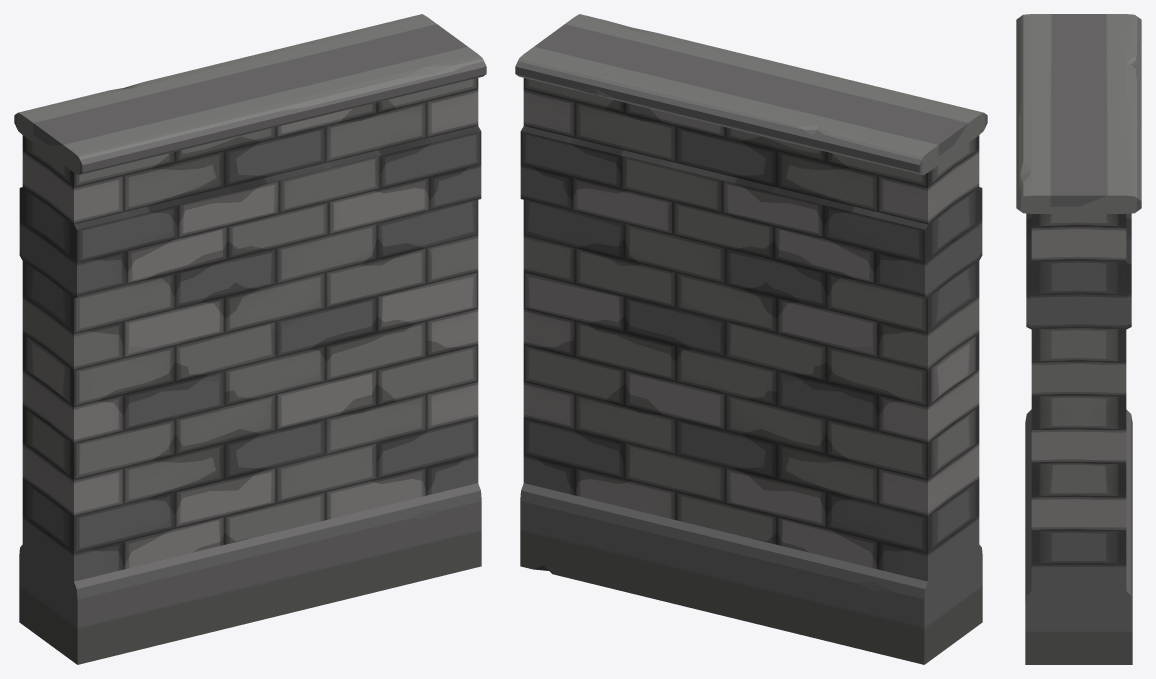
File: SM_Bld_Fence_Brick_01.fbx
3 views of the same model, side by side, from view 1: azimuth 30°, elevation 25°; view 2: azimuth 150°, elevation 25°; view 3: azimuth 270°, elevation 25° (orthographic). The views are drawn at different scales.
Visible parts, largest first — view 1: SM_Bld_Fence_Brick_01; view 2: SM_Bld_Fence_Brick_01; view 3: SM_Bld_Fence_Brick_01.
Boxes of the visible parts, <box> form: SM_Bld_Fence_Brick_01: <box>14,14,486,664</box>; SM_Bld_Fence_Brick_01: <box>515,14,987,664</box>; SM_Bld_Fence_Brick_01: <box>1016,14,1141,664</box>.
Size of the model in its own units: 250 by 301 by 73.04.
